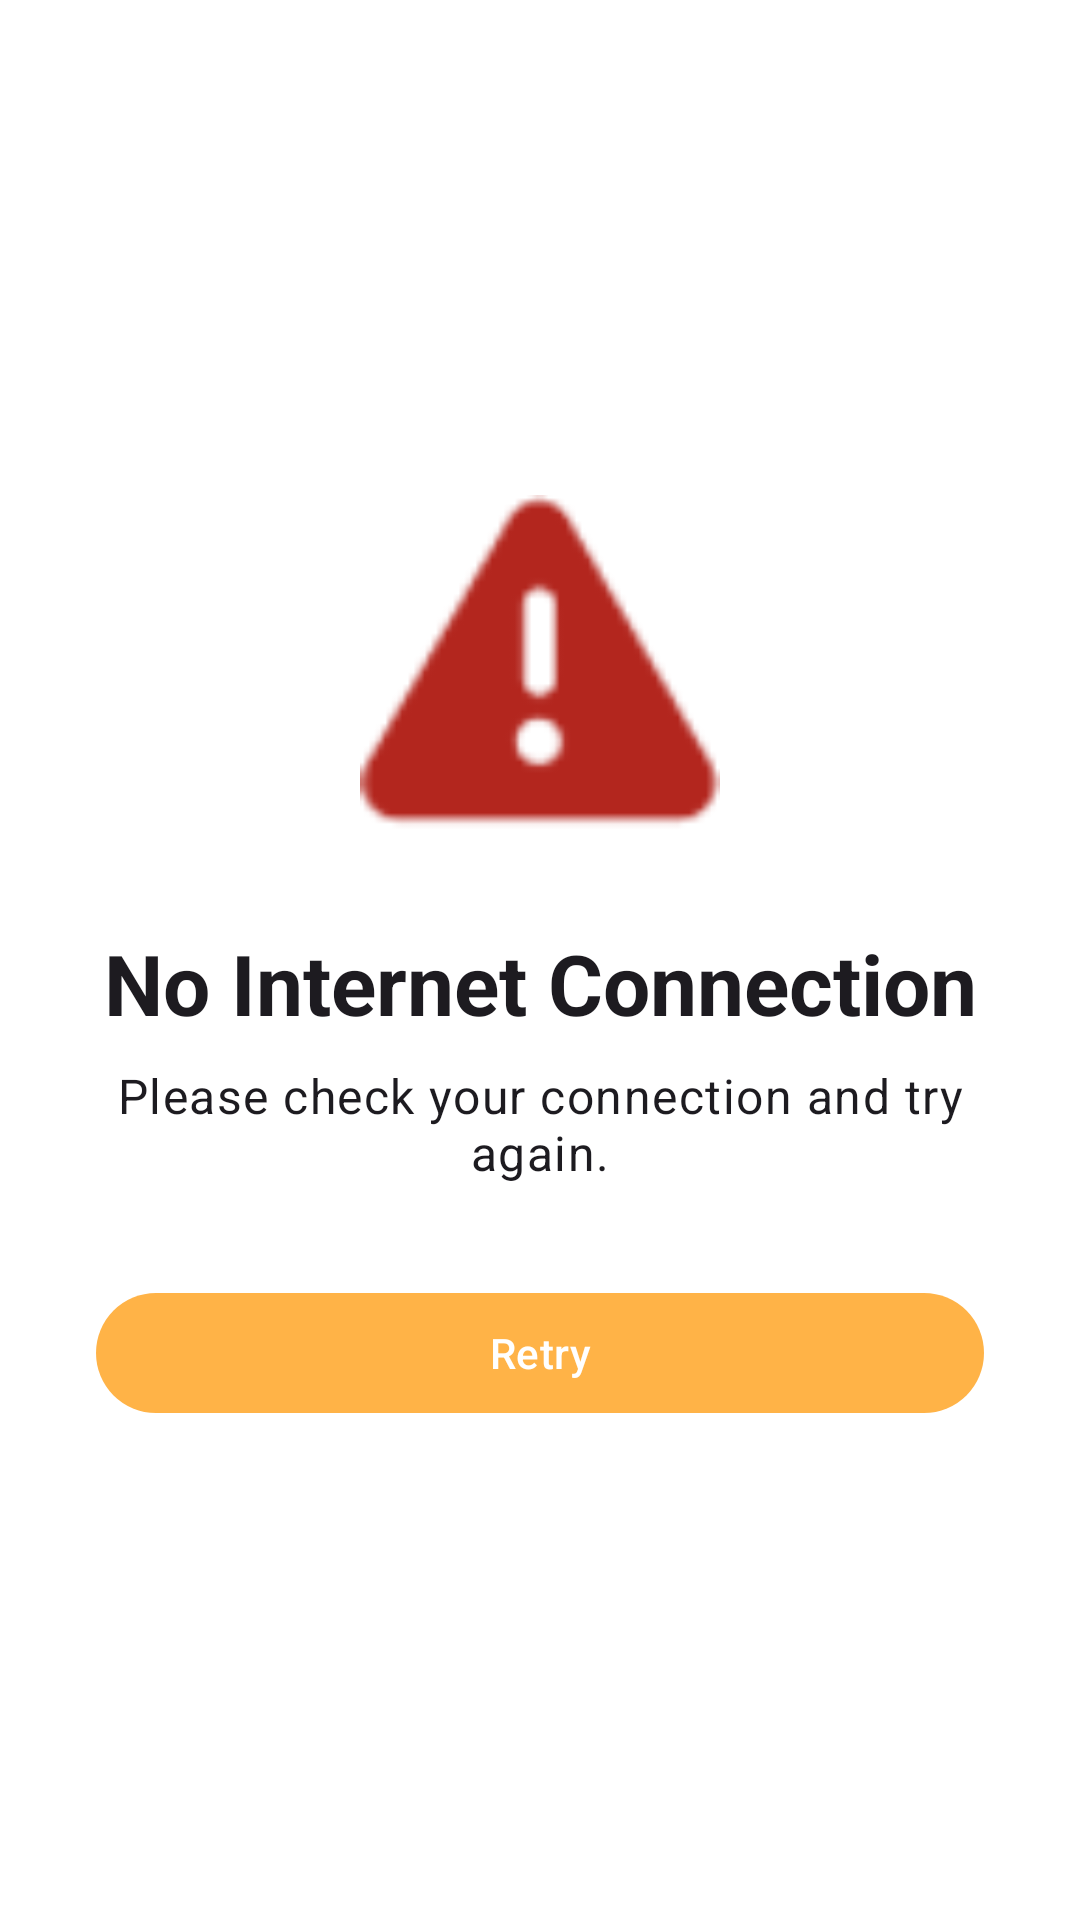

Named icons in this screenshot (1080 x 1920) and their bounding boxes, [x1,y1,x2,y2]:
alert: [360,495,720,824]
